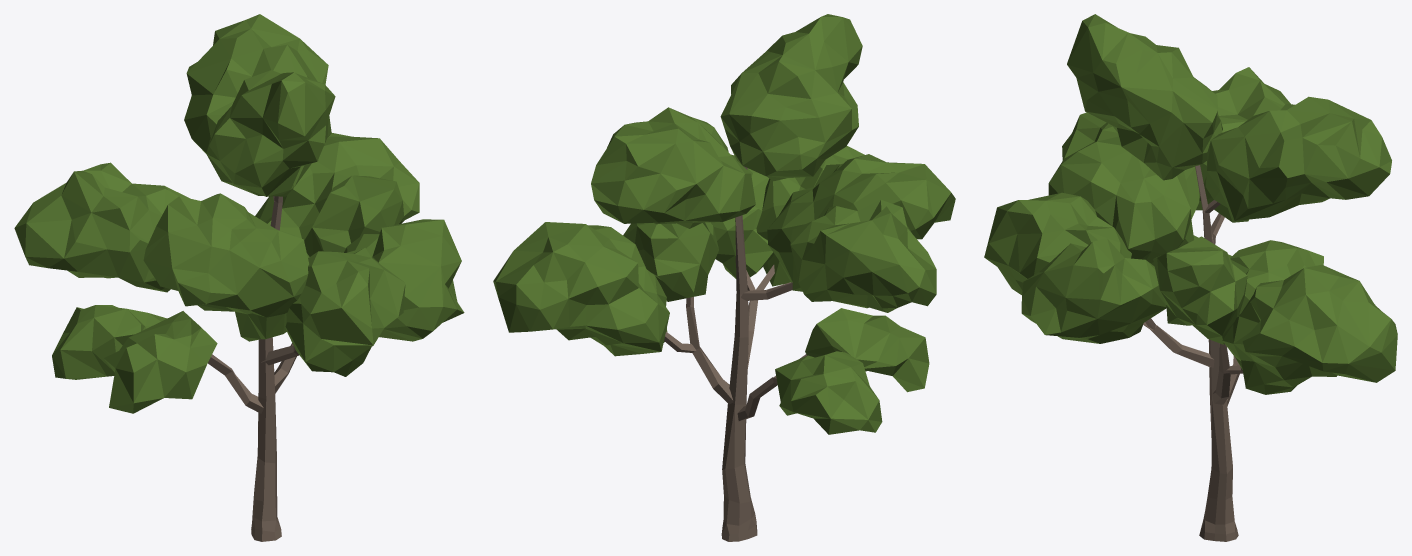
Rendered from SM_RF_Tree_01.fbx.
The picture shows the model from 3 angles, left to right: view 1: azimuth 30°, elevation 25°; view 2: azimuth 150°, elevation 25°; view 3: azimuth 270°, elevation 25°; orthographic projection. The views are drawn at different scales.
Visible parts, largest first — view 1: SM_RF_Tree_01; view 2: SM_RF_Tree_01; view 3: SM_RF_Tree_01.
Boxes of the visible parts, x1=… form: SM_RF_Tree_01: x1=14, y1=14, x2=464, y2=541; SM_RF_Tree_01: x1=493, y1=14, x2=955, y2=541; SM_RF_Tree_01: x1=984, y1=14, x2=1397, y2=541.
Bounding box in the file's own units: 1045 × 1218 × 915.
